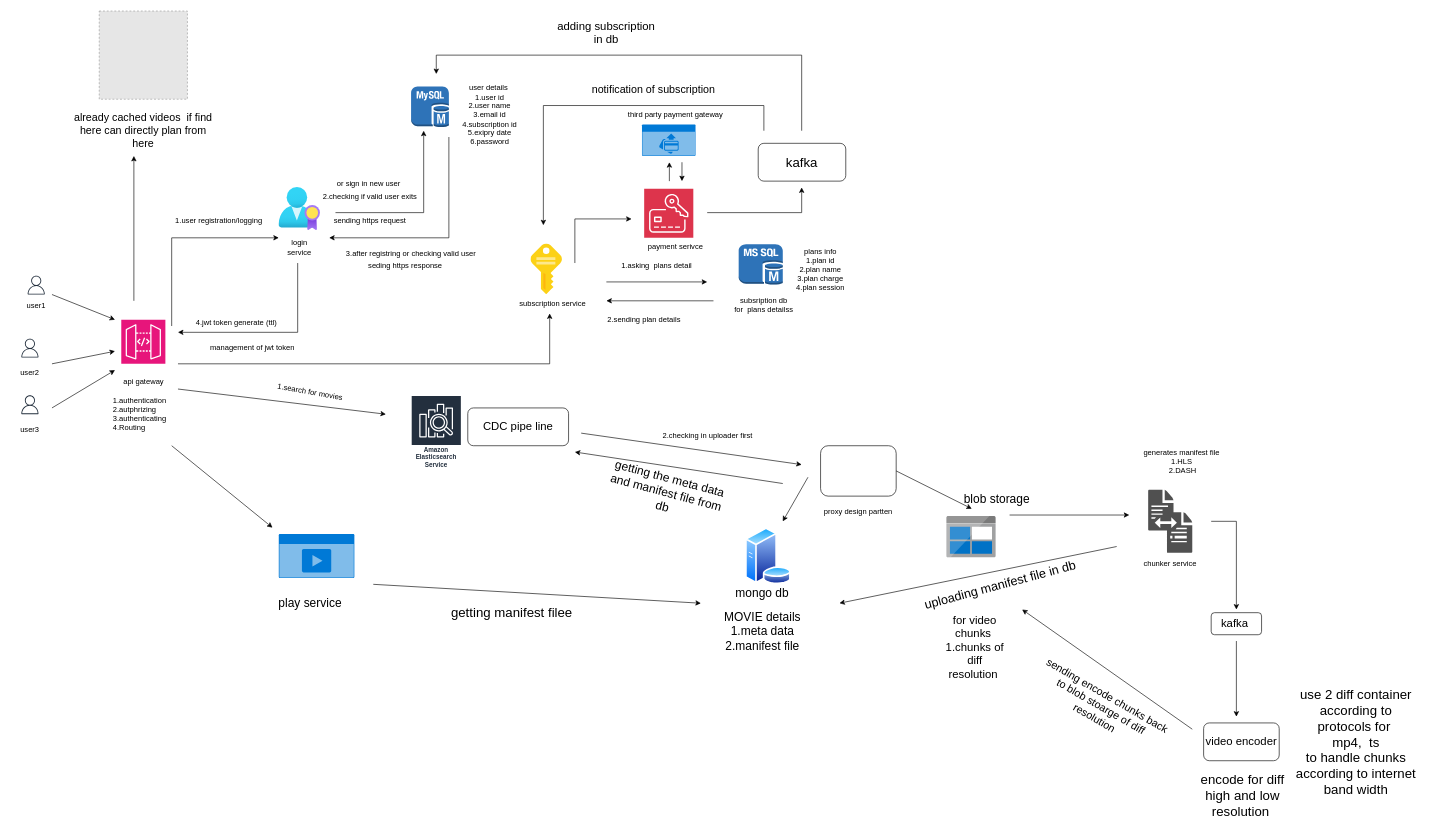
The diagram is 1429 pixels wide and 835 high, and some of its shapes have lost their labels. Grey dashed boxes stand in for pictures. Each missing label, with the centre of its shape:
"Payment" goes at (x=668, y=140).
"uploader" goes at (x=858, y=470).
"Video" goes at (x=316, y=556).
